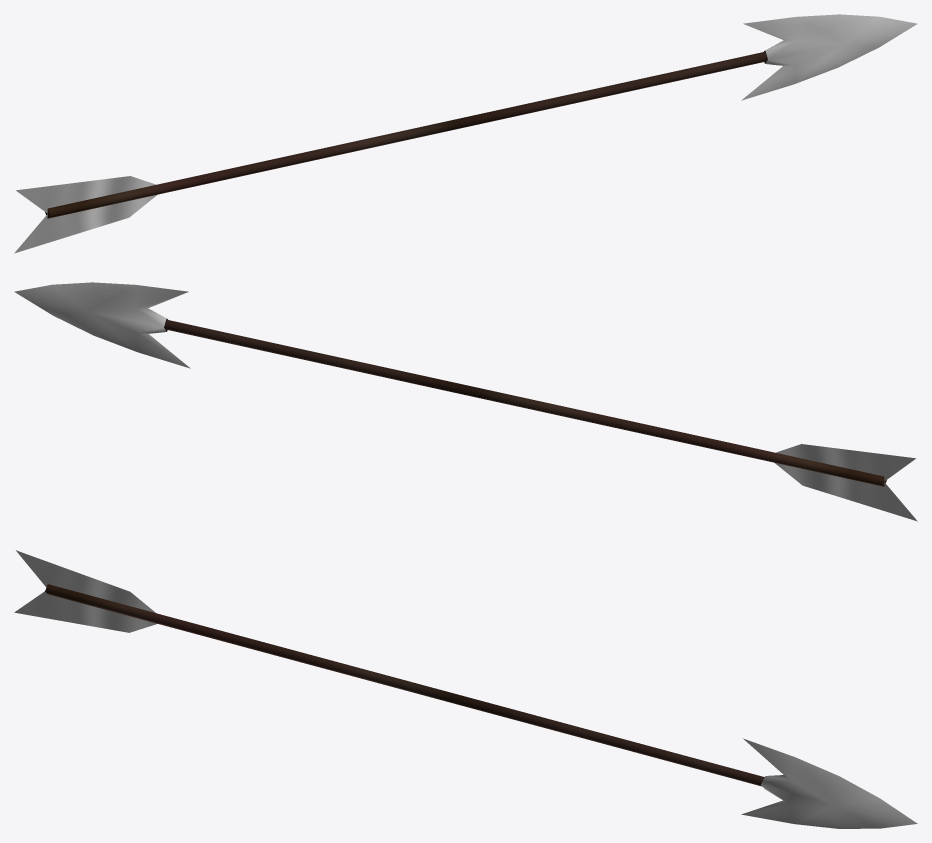
The model's file is Arrow.fbx.
3 views of the same model, one above another, from view 1: azimuth 30°, elevation 25°; view 2: azimuth 150°, elevation 25°; view 3: azimuth 330°, elevation 25° (orthographic).
Visible parts, largest first — view 1: weapon_bow_ShenMin02; view 2: weapon_bow_ShenMin02; view 3: weapon_bow_ShenMin02.
Part boxes in pixels (x1,y1,x2,y2): weapon_bow_ShenMin02: [14, 14, 917, 253]; weapon_bow_ShenMin02: [14, 282, 917, 521]; weapon_bow_ShenMin02: [14, 550, 917, 828].
Size of the model in its own units: 60 by 5.55 by 0.941.
2 materials, 2 textured.
